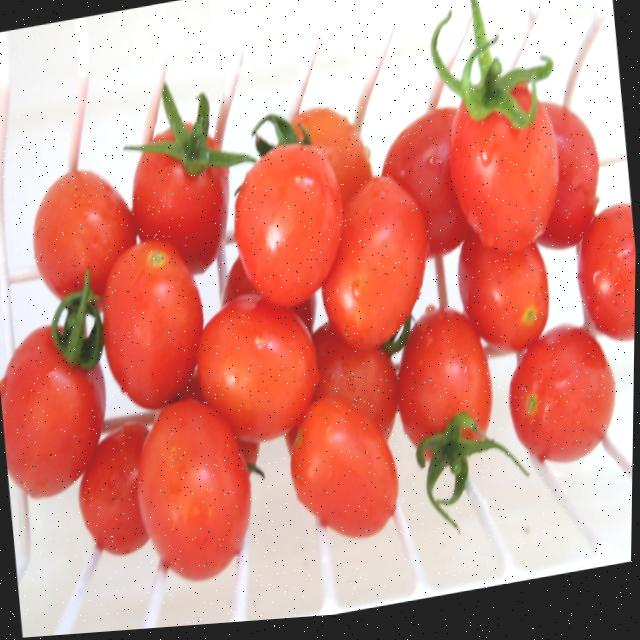ripe2: (137, 399, 249, 579), (322, 177, 427, 348), (0, 325, 104, 497), (196, 296, 318, 441), (234, 144, 342, 307), (197, 296, 318, 441), (102, 240, 203, 408), (449, 103, 558, 251), (290, 397, 397, 535), (509, 325, 614, 460), (33, 168, 135, 298), (396, 308, 491, 446), (132, 153, 227, 273), (458, 235, 549, 349), (312, 324, 397, 439), (78, 423, 149, 554), (537, 102, 599, 248), (577, 204, 636, 339)
